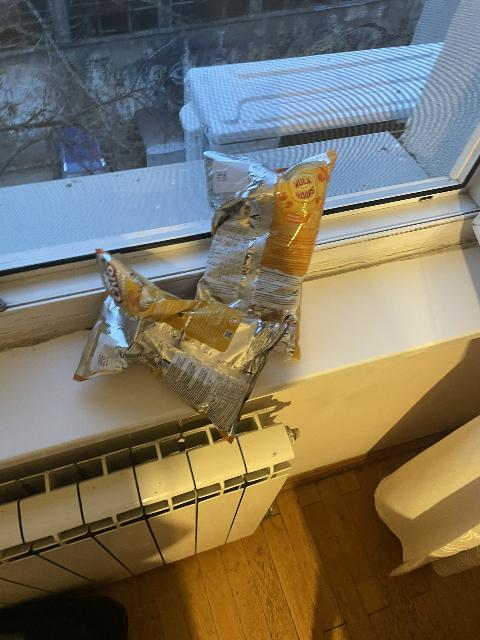Chio Cascaval 125g: (75, 248, 293, 445)
Chio Hula Hoops Cheese 70g: (196, 151, 326, 360)
